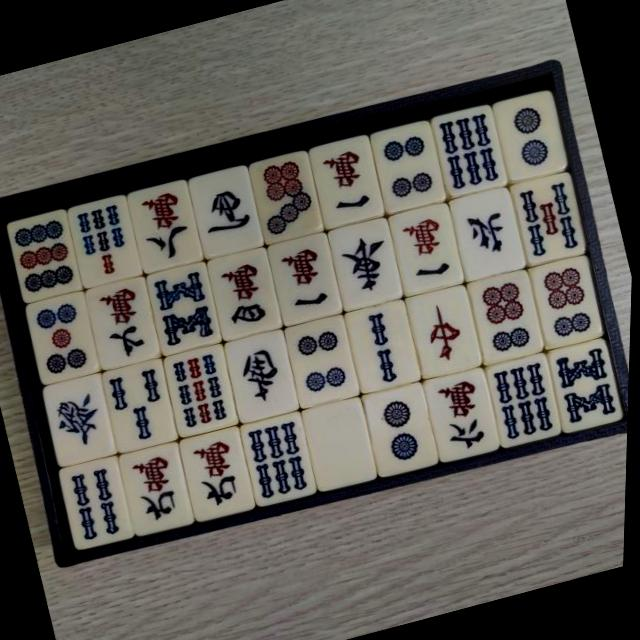hdg: (46, 376, 115, 459)
hdr: (413, 290, 480, 372)
hdw: (308, 400, 375, 485)
hwe: (331, 218, 401, 302)
hwn: (456, 194, 522, 274)
hws: (229, 331, 300, 418)
hww: (191, 167, 263, 250)
sb2: (348, 300, 421, 389)
sb3: (105, 361, 177, 447)
sb4: (63, 460, 136, 546)
sb5: (513, 174, 585, 261)
sb6: (433, 105, 507, 194), (245, 413, 318, 502), (490, 357, 563, 442)
sb7: (69, 197, 142, 284)
sb8: (551, 340, 624, 428), (150, 263, 221, 351)
sb9: (167, 346, 237, 432)
sc1: (272, 236, 342, 320), (394, 206, 463, 288), (313, 140, 382, 222)
sc4: (211, 250, 282, 334)
sc6: (432, 368, 497, 457)
sc7: (87, 278, 158, 366)
sc8: (130, 182, 203, 268)
sc9: (123, 443, 195, 532), (184, 431, 256, 516)
sd2: (370, 386, 440, 471), (500, 95, 564, 176)
sd4: (290, 317, 359, 401), (375, 124, 443, 206)
sd5: (30, 295, 98, 378)
sd6: (474, 274, 544, 360), (536, 258, 602, 343)
sd7: (250, 153, 324, 239)
sd9: (8, 212, 83, 298)
